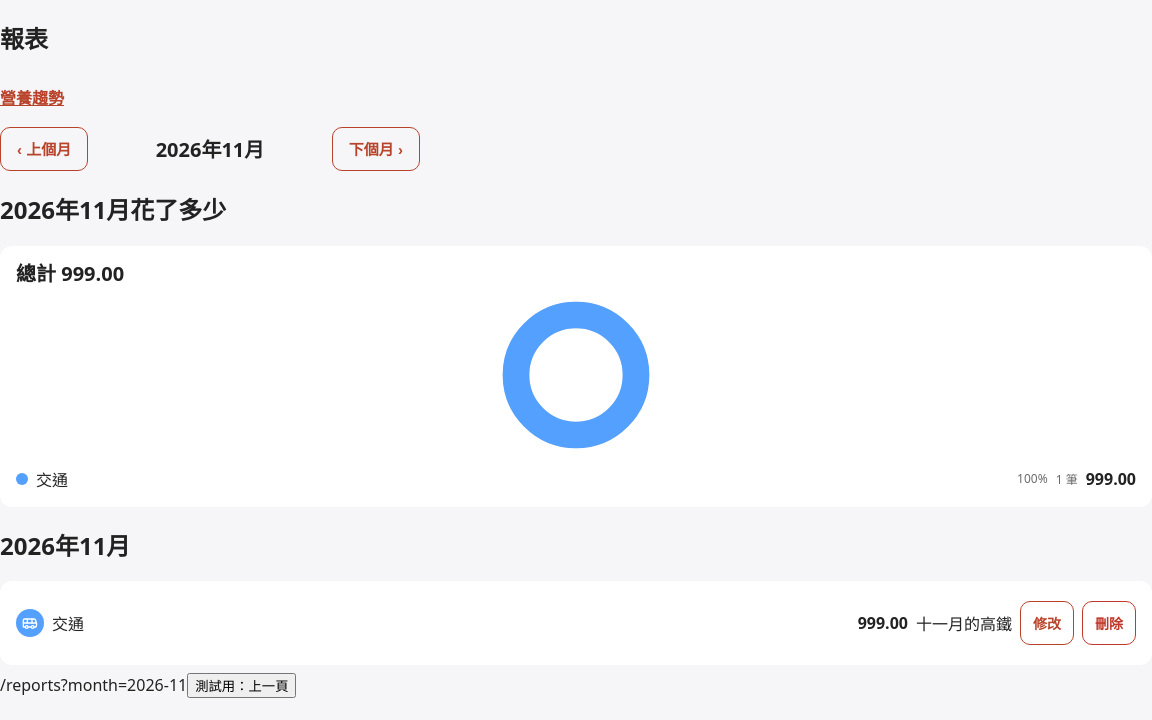
Test case: 報表：切換月份 › 在過去的月份刪掉一筆：重抓的是那個月的清單與報表
The image size is (1152, 720).
Click the button "刪除".
click(1109, 623)  # box [1082,601,1136,645]
(page scrolled)
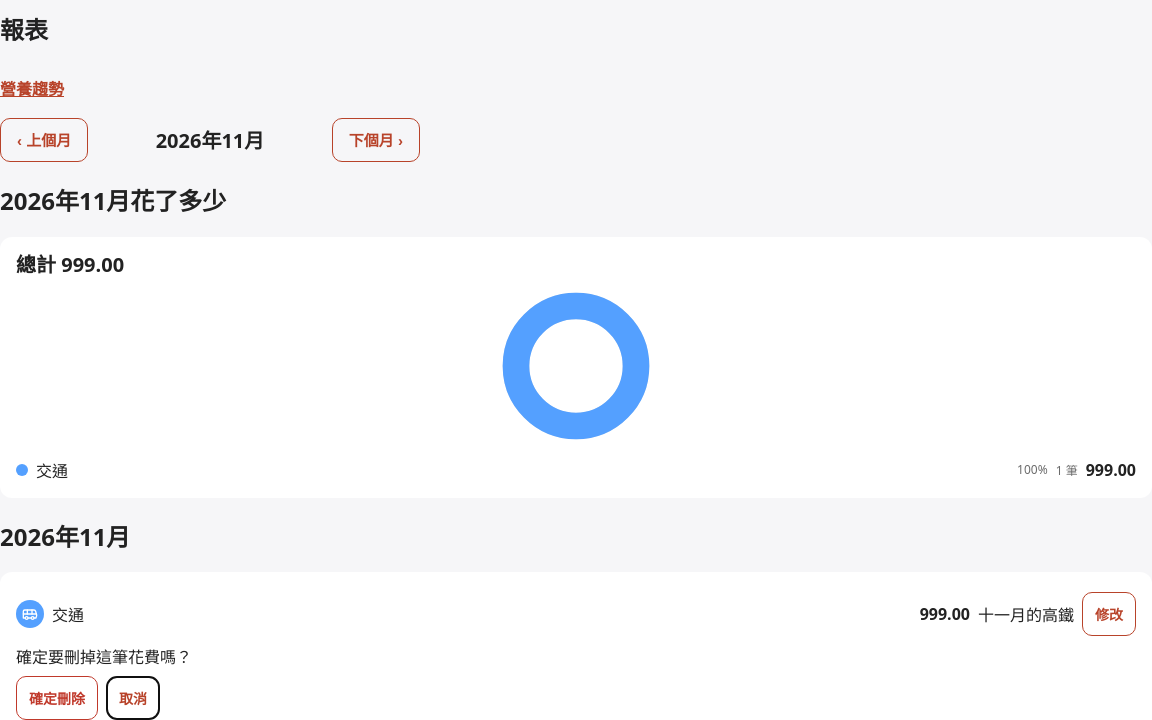
Click the button "確定刪除".
click(57, 698)  # box [16,676,98,719]
(page scrolled)
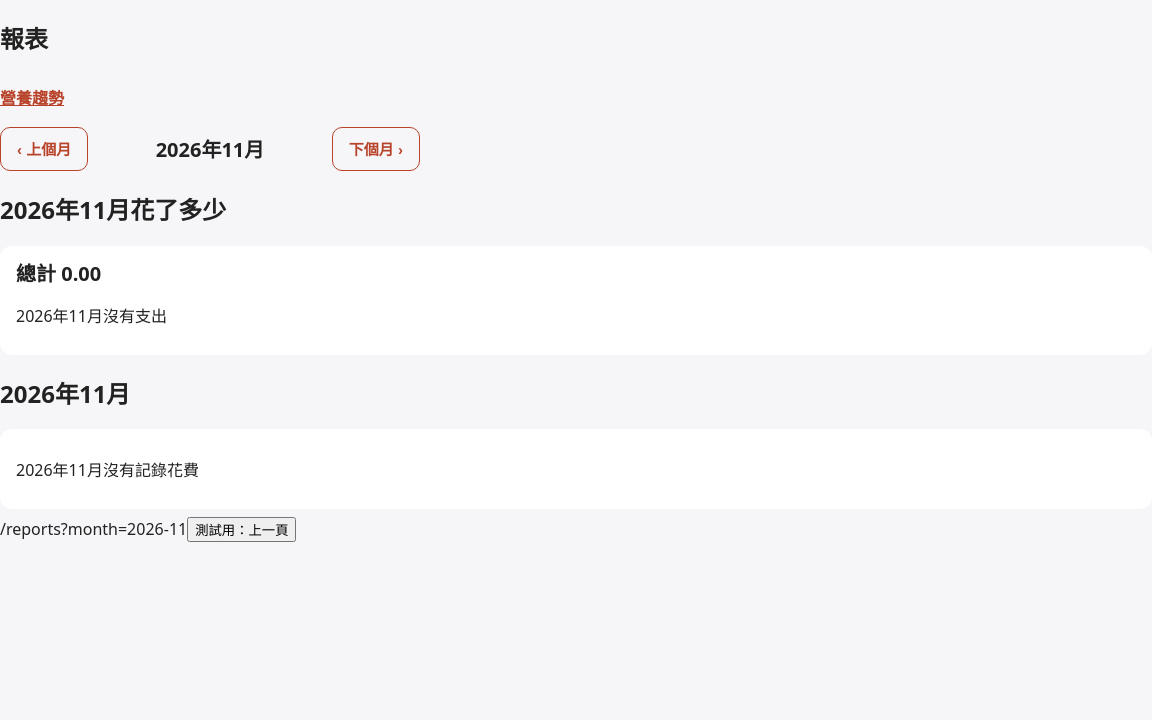
expect the text with test id "location" reads "/reports?month=2026-11": met, box [0,518,187,540]
expect the text "2026年11月沒有記錄花費" is shown: met, box [16,459,199,481]
expect the text "2026年11月沒有支出" is shown: met, box [16,305,167,327]
